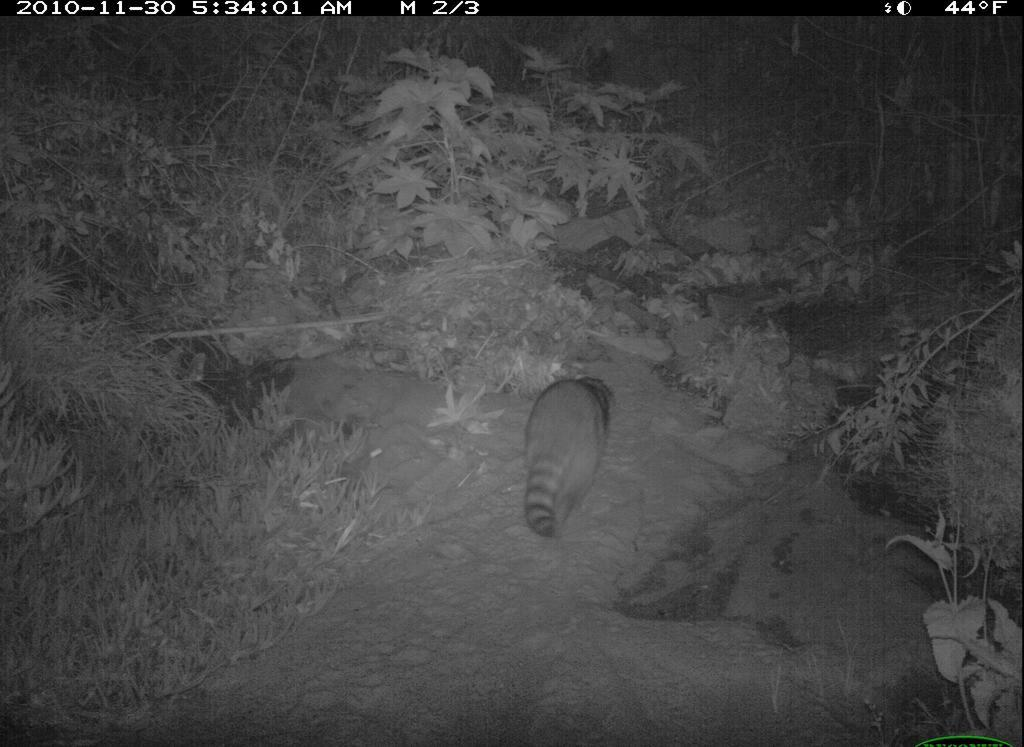raccoon: (517, 367, 620, 542)
